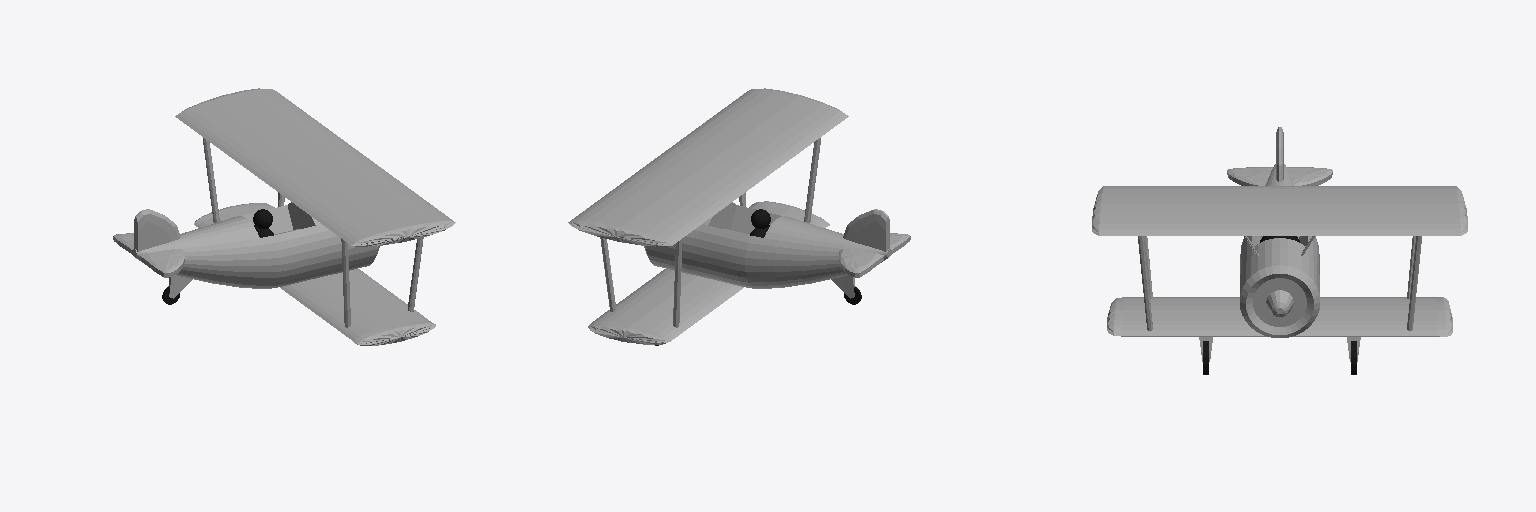
The model's file is Avion.obj.
3 views of the same model, side by side, from view 1: azimuth 30°, elevation 25°; view 2: azimuth 150°, elevation 25°; view 3: azimuth 270°, elevation 25° (orthographic).
Visible parts, largest first — view 1: Fuselage_Cone, Structure_Cube.001; view 2: Fuselage_Cone, Structure_Cube.001; view 3: Fuselage_Cone, Structure_Cube.001.
Boxes of the visible parts, x1=… form: Fuselage_Cone: x1=113, y1=88, x2=455, y2=345; Structure_Cube.001: x1=203, y1=138, x2=423, y2=327; Fuselage_Cone: x1=568, y1=88, x2=910, y2=344; Structure_Cube.001: x1=600, y1=138, x2=820, y2=327; Fuselage_Cone: x1=1092, y1=127, x2=1467, y2=361; Structure_Cube.001: x1=1138, y1=236, x2=1421, y2=330.
Bounding box in the file's own units: 7.4 × 4.67 × 9.95.